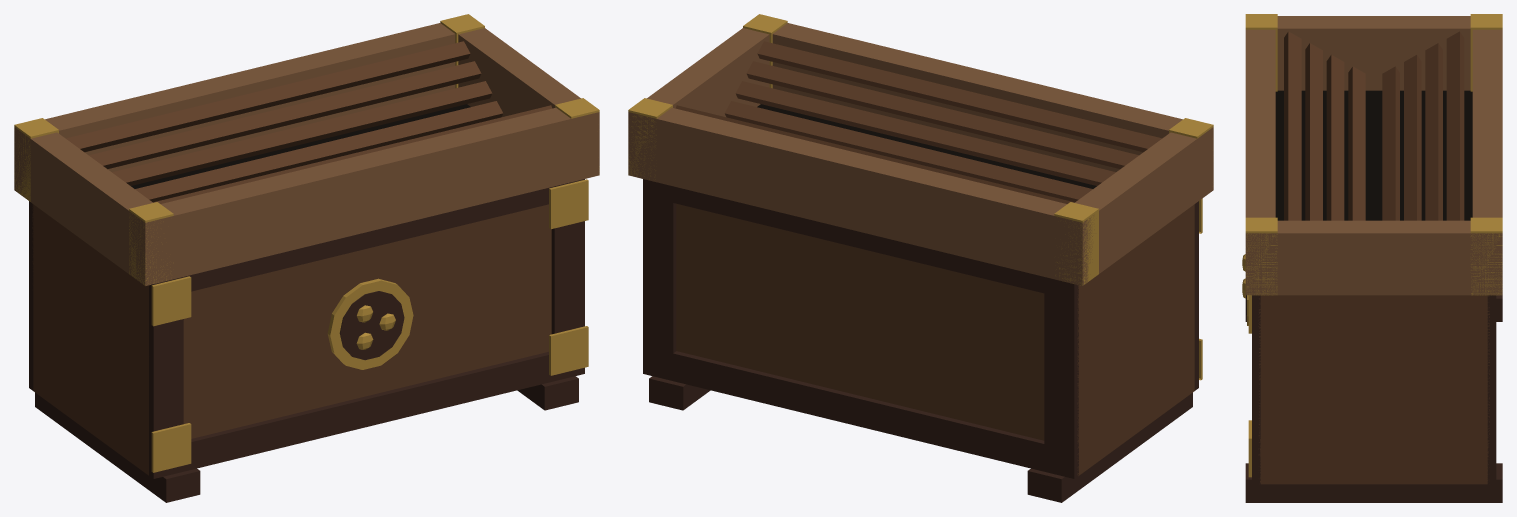
The model's file is saisen_box.glb.
3 renders of one model, left to right at view 1: azimuth 30°, elevation 25°; view 2: azimuth 150°, elevation 25°; view 3: azimuth 270°, elevation 25°, orthographic.
Parts seen in each view (by area): view 1: saisen; view 2: saisen; view 3: saisen.
Boxes of the visible parts, left/top/right/bottom form: saisen: left=14, top=14, right=599, bottom=502; saisen: left=628, top=14, right=1213, bottom=502; saisen: left=1242, top=14, right=1502, bottom=502.
Bounding box in the file's own units: 1.2 × 0.725 × 0.6076.
